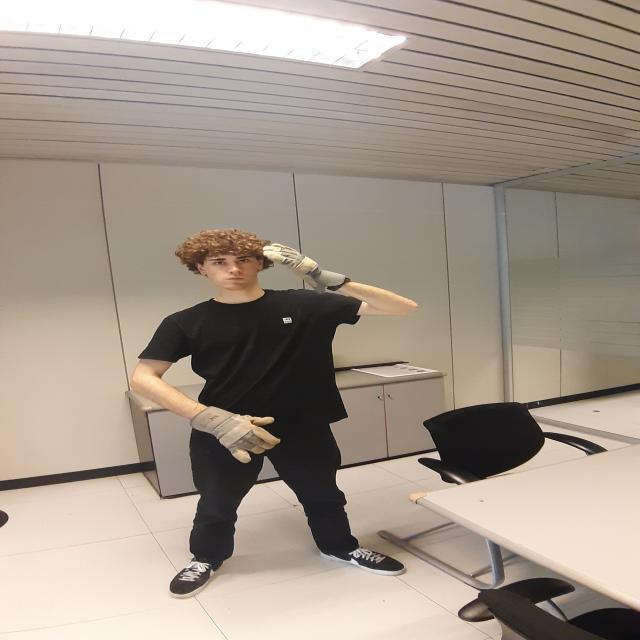gloved_hand: (192, 405, 283, 464), (258, 242, 353, 292)
